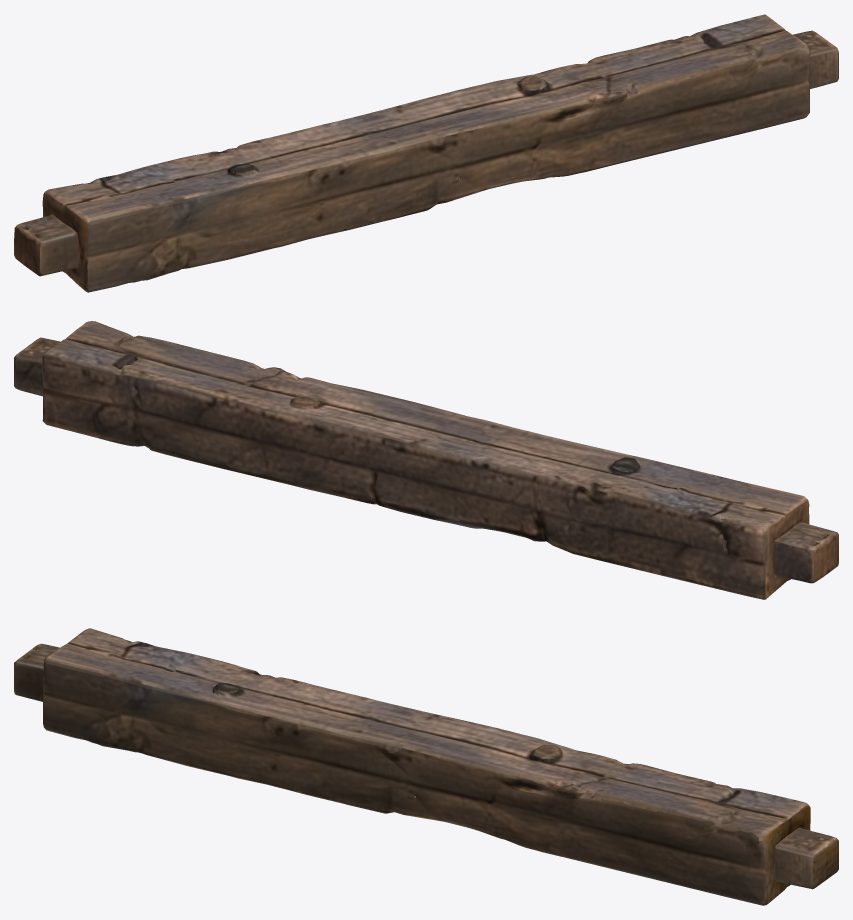
3 views of the same model, one above another, from view 1: azimuth 30°, elevation 25°; view 2: azimuth 150°, elevation 25°; view 3: azimuth 330°, elevation 25° (orthographic).
Visible parts, largest first — view 1: geometry_0; view 2: geometry_0; view 3: geometry_0.
Part boxes in pixels (x1=…): geometry_0: x1=14, y1=14, x2=838, y2=292; geometry_0: x1=14, y1=321, x2=838, y2=599; geometry_0: x1=14, y1=628, x2=838, y2=905.
Bounding box in the file's own units: 1.2 × 0.1116 × 0.128.
Materials: 1 (1 with a texture image).
